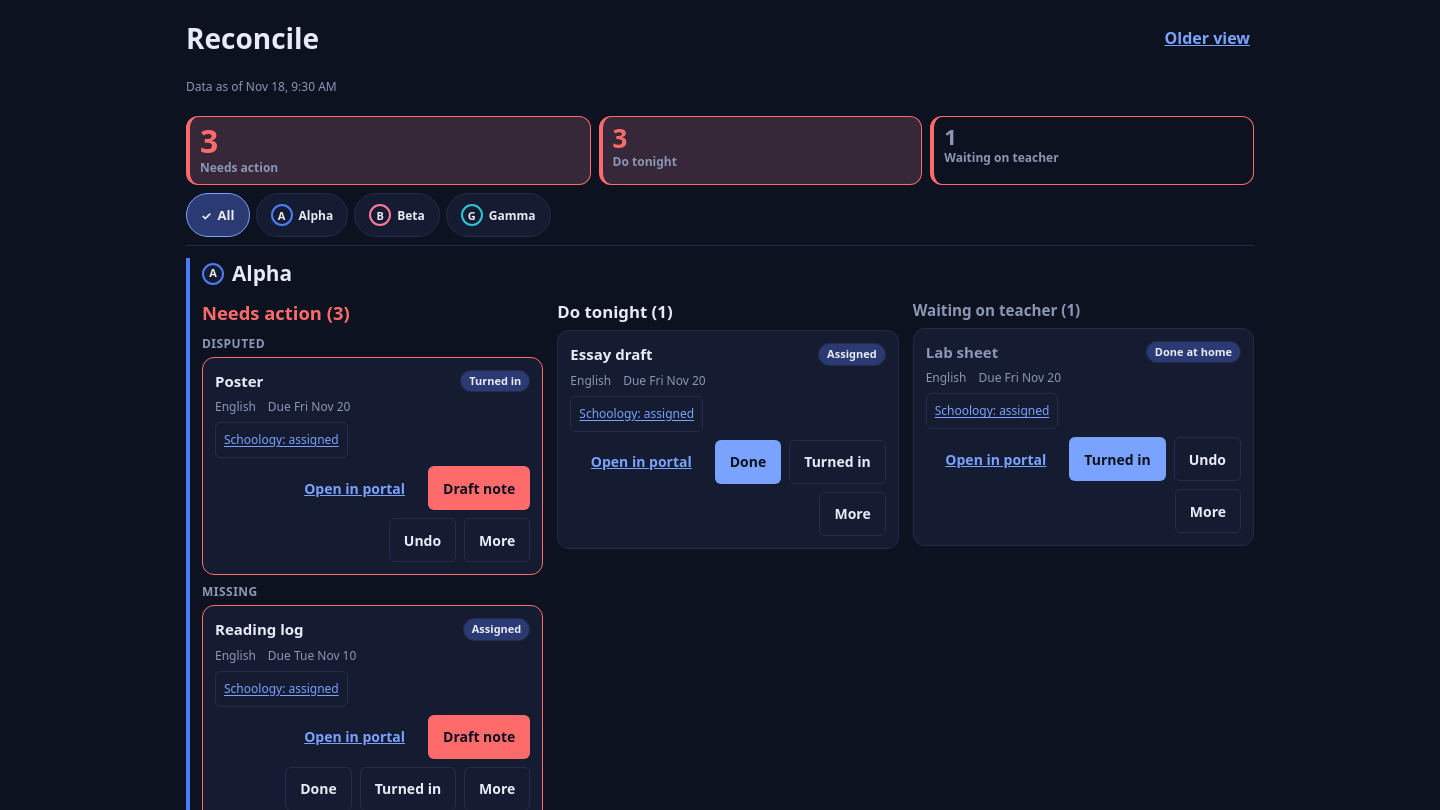
Test case: sheet focus: moves in on open, Escape closes and restores focus to the opener
The width and height of the screenshot is (1440, 810).
Check: the heading "Alpha" is shown, box [232,258,292,289]
Click the button with aria-label "Draft note for Poster (English, Alpha)": (479, 488) [428,466,530,510]
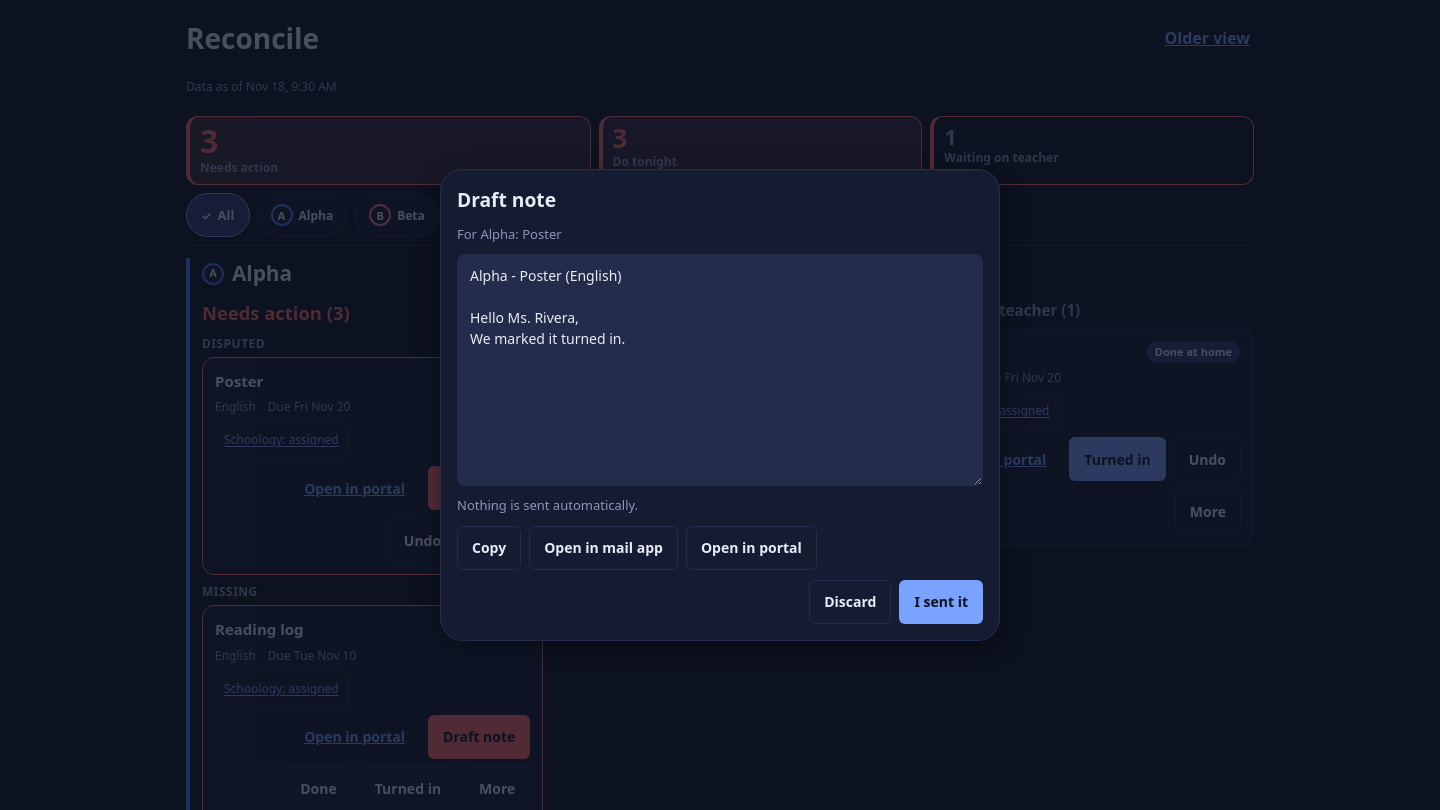
Press Escape in the dialog "Draft note", box [440,169,1000,641]
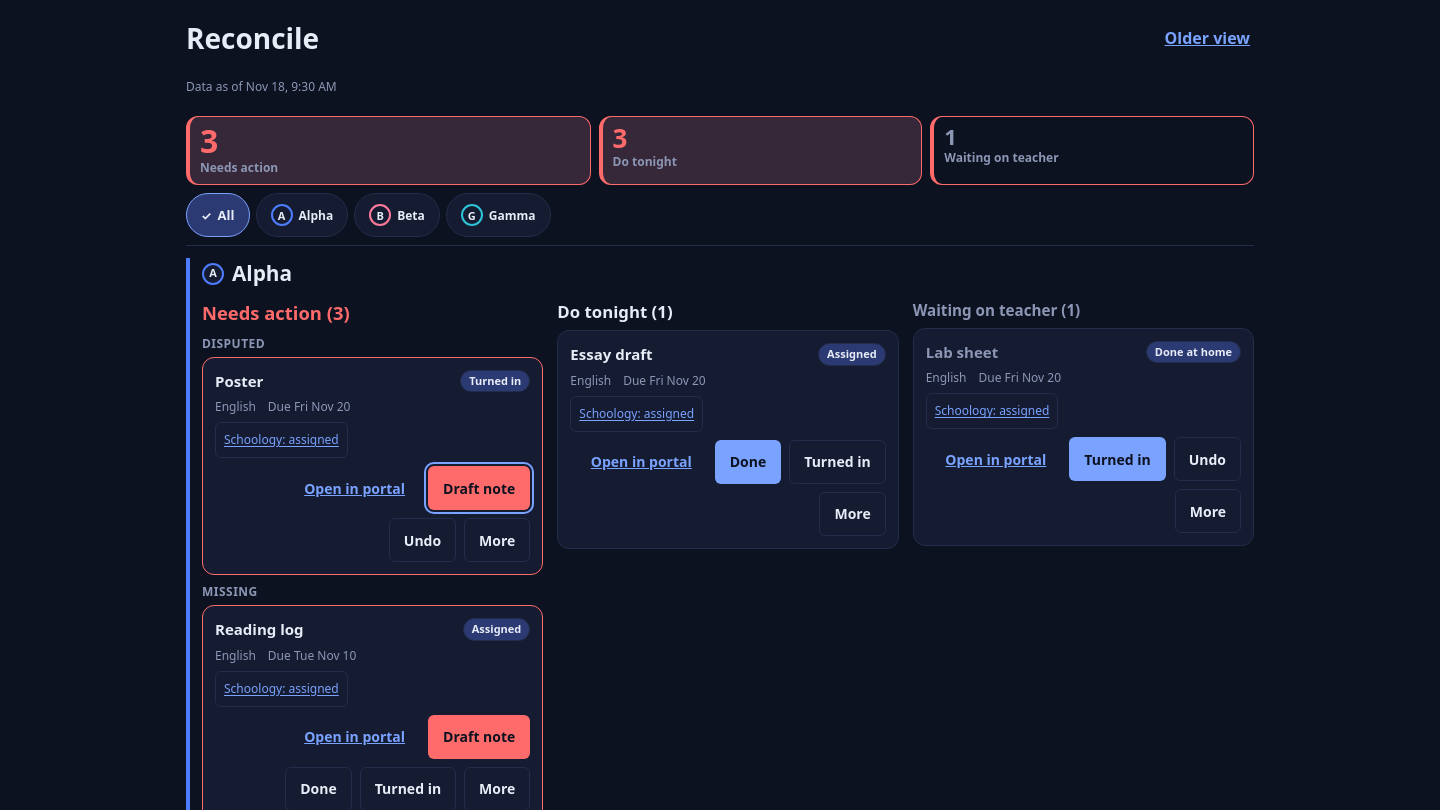
Check: the dialog is gone
